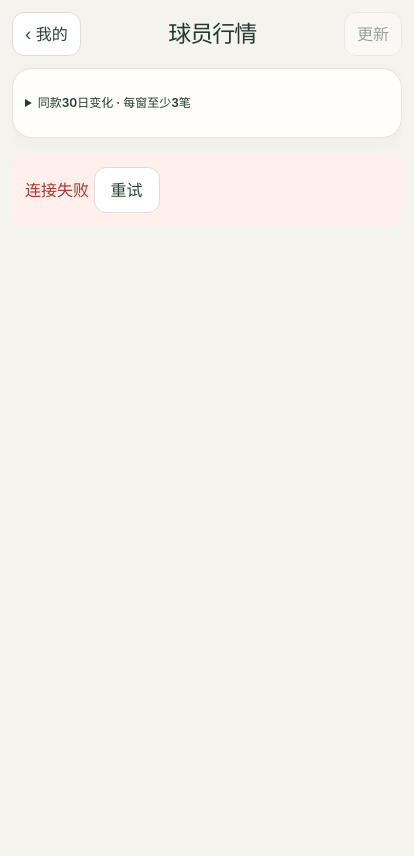
Test: keeps a real empty library empty and shows loading failure with retry
Check: the message "连接失败 重试" is shown, box [12,154,402,226]
Click the button "重试": point(126, 190) [94,167,160,213]
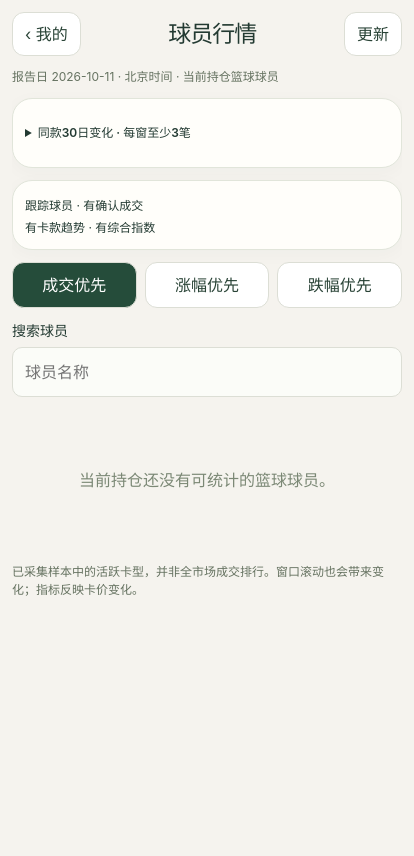
Check: the text "当前持仓还没有可统计的篮球球员。" is shown, box [79,470,335,490]
